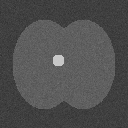nodule: (48, 53, 67, 69)
